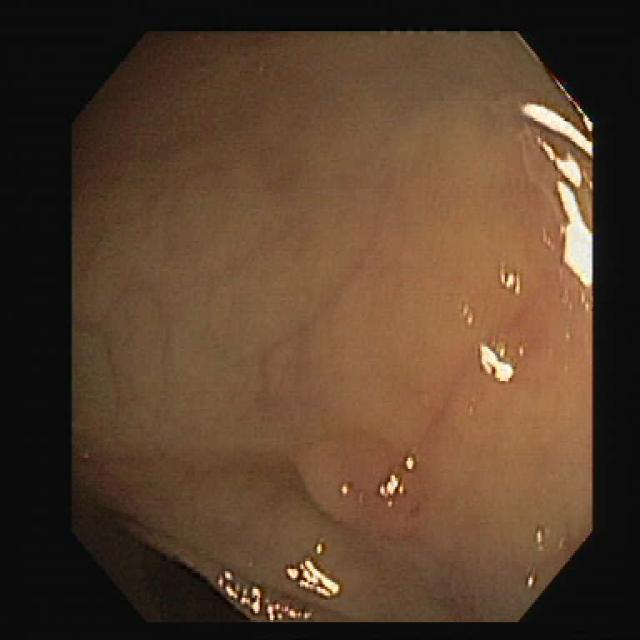tumor: (293, 433, 435, 531)
